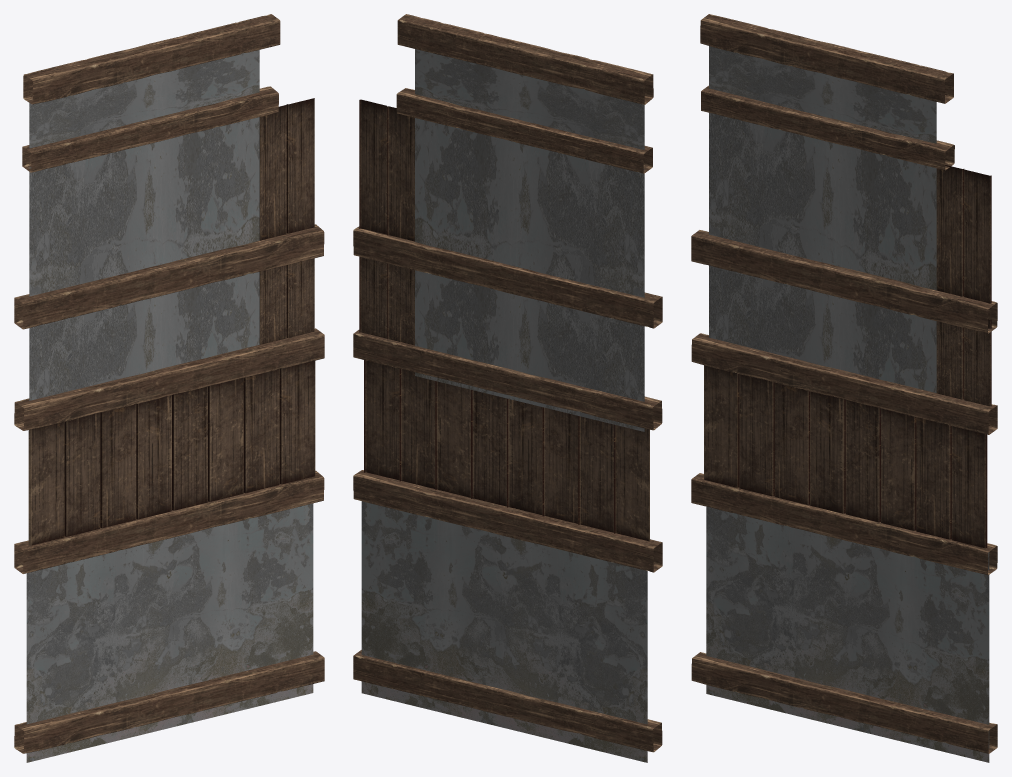
Rendered from SM_Wall_01.fbx.
3 views of the same model, side by side, from view 1: azimuth 30°, elevation 25°; view 2: azimuth 150°, elevation 25°; view 3: azimuth 330°, elevation 25° (orthographic).
Parts seen in each view (by area): view 1: SM_Wall_01_LOD0; view 2: SM_Wall_01_LOD0; view 3: SM_Wall_01_LOD0.
Boxes of the visible parts, x1,y1,x2,y2 form: SM_Wall_01_LOD0: (14, 14, 324, 762); SM_Wall_01_LOD0: (353, 14, 662, 762); SM_Wall_01_LOD0: (691, 14, 997, 762).
Bounding box in the file's own units: 560 × 32.72 × 1219.
